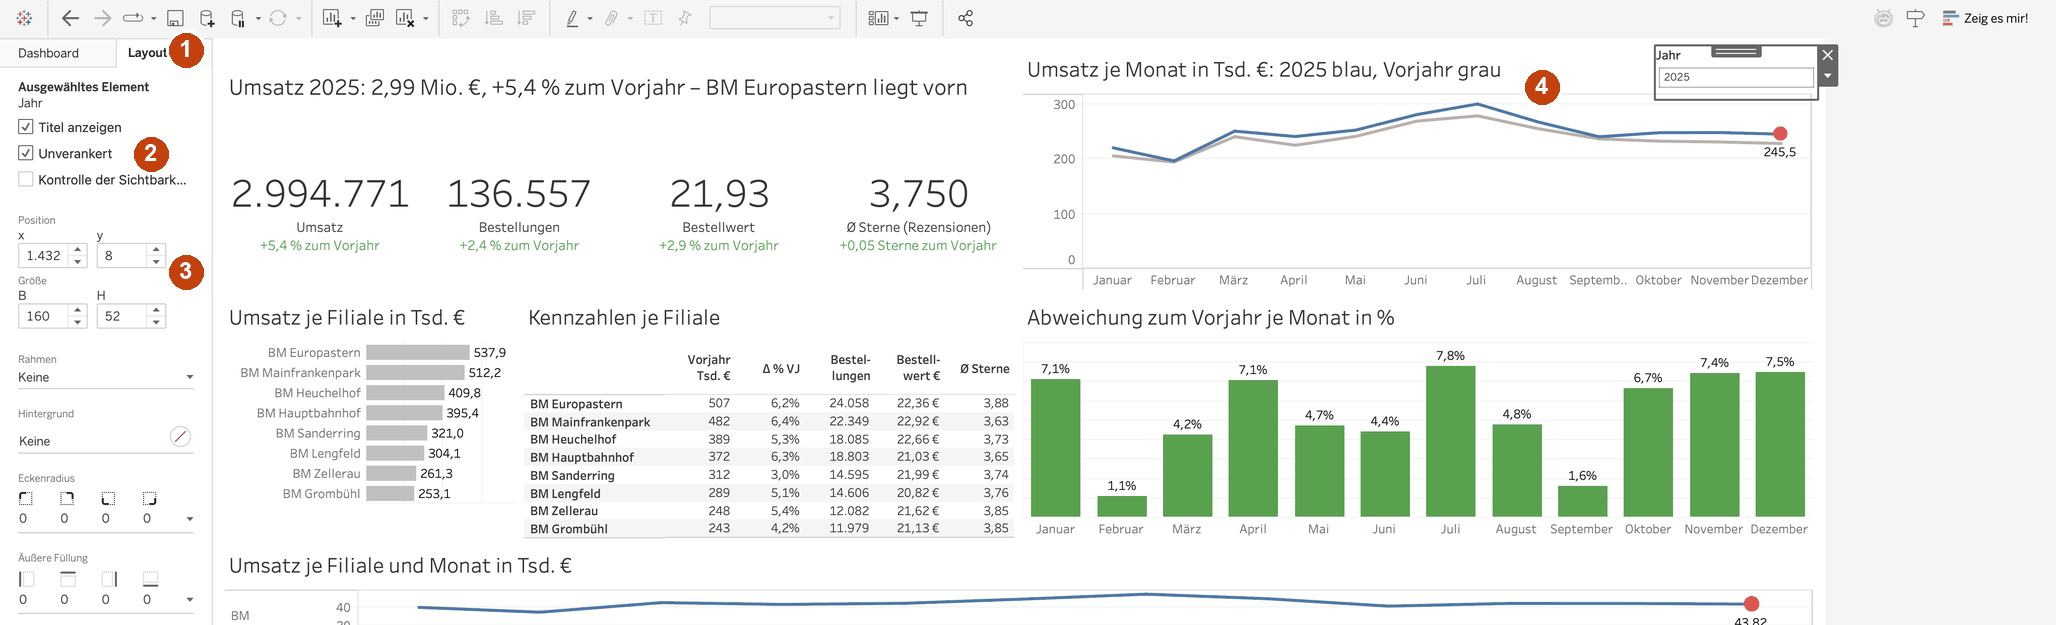

The dashboard page shown, as its layout file describes it:
{"tool":"tableau","page":{"name":"Dashboard 1","canvas":[1600,1000],"ordinal":0},"visuals":[{"type":"worksheet","title":"Titel","mark":"Automatic","box":[8,8,792,80]},{"type":"worksheet","title":"Umsatz je Monat","mark":"Automatic","rows":["Calculation_5100132365418516"],"cols":["date"],"box":[800,8,792,246]},{"type":"parameter","param":"[Parameters].[Parameter 5100132363096068]","box":[1432,8,160,52]},{"type":"worksheet","title":"Karte Umsatz","mark":"Automatic","box":[8,88,198,166]},{"type":"worksheet","title":"Karte Bestellungen","mark":"Automatic","box":[206,88,198,166]},{"type":"worksheet","title":"Karte Bestellwert","mark":"Automatic","box":[404,88,198,166]},{"type":"worksheet","title":"Karte Sterne","mark":"Automatic","box":[602,88,198,166]},{"type":"worksheet","title":"Filialen Umsatz","mark":"Automatic","rows":["branch_name"],"cols":["Calculation_5100132365291538"],"box":[8,254,297,246]},{"type":"worksheet","title":"Filialen Kennzahlen","mark":"Automatic","rows":["branch_name"],"box":[305,254,495,246]},{"type":"worksheet","title":"Abweichung je Monat","mark":"Bar","rows":["Calculation_5100132363948041"],"cols":["date"],"box":[800,254,792,246]},{"type":"worksheet","title":"Filialen je Monat","mark":"Automatic","rows":["branch_name","Calculation_5100132365291538","Calculation_5100132365418516"],"cols":["date"],"box":[8,500,1584,492]}]}

Visuals, with their boxes on the page's 1600x1000 design canvas (x1, y1, x2, y2). These are canvas units, not pixel positions in the 2056x625 screenshot, which may show the page scaled, cropped or inside an application window:
"Titel" worksheet: pyautogui.locateOnScreen(8, 8, 800, 88)
"Umsatz je Monat" worksheet: pyautogui.locateOnScreen(800, 8, 1592, 254)
parameter: pyautogui.locateOnScreen(1432, 8, 1592, 60)
"Karte Umsatz" worksheet: pyautogui.locateOnScreen(8, 88, 206, 254)
"Karte Bestellungen" worksheet: pyautogui.locateOnScreen(206, 88, 404, 254)
"Karte Bestellwert" worksheet: pyautogui.locateOnScreen(404, 88, 602, 254)
"Karte Sterne" worksheet: pyautogui.locateOnScreen(602, 88, 800, 254)
"Filialen Umsatz" worksheet: pyautogui.locateOnScreen(8, 254, 305, 500)
"Filialen Kennzahlen" worksheet: pyautogui.locateOnScreen(305, 254, 800, 500)
"Abweichung je Monat" worksheet (Bar marks): pyautogui.locateOnScreen(800, 254, 1592, 500)
"Filialen je Monat" worksheet: pyautogui.locateOnScreen(8, 500, 1592, 992)
